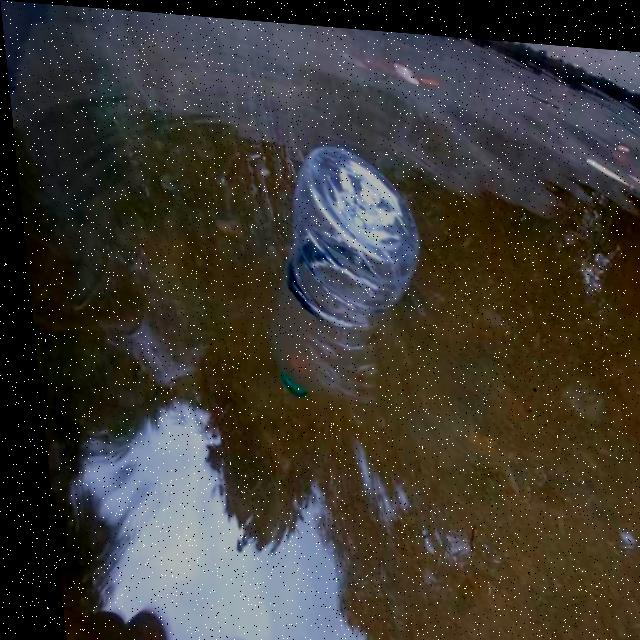waterbottle: (222, 111, 434, 404)
